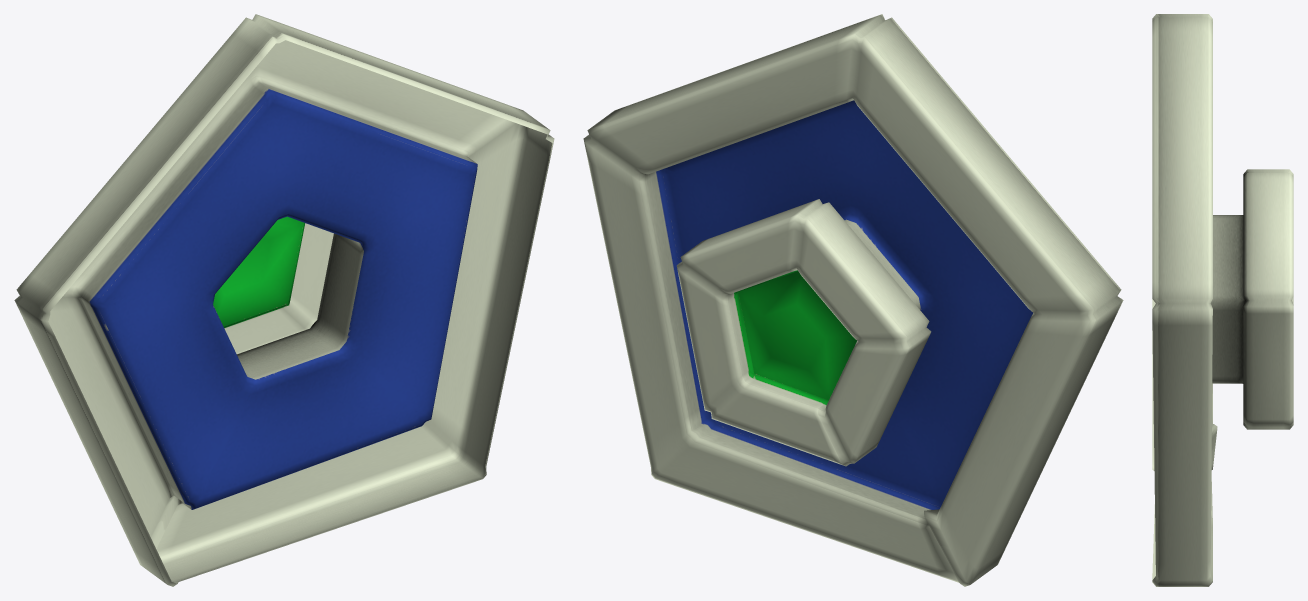
The model's file is fountain.fbx.
3 views of the same model, side by side, from view 1: azimuth 30°, elevation 25°; view 2: azimuth 150°, elevation 25°; view 3: azimuth 270°, elevation 25° (orthographic). The views are drawn at different scales.
Visible parts, largest first — view 1: fountain; view 2: fountain; view 3: fountain.
Boxes of the visible parts, x1,y1,x2,y2 form: fountain: (14,14,554,586); fountain: (583,14,1123,586); fountain: (1152,14,1293,586).
Size of the model in its own units: 56348 by 55257 by 14000.
